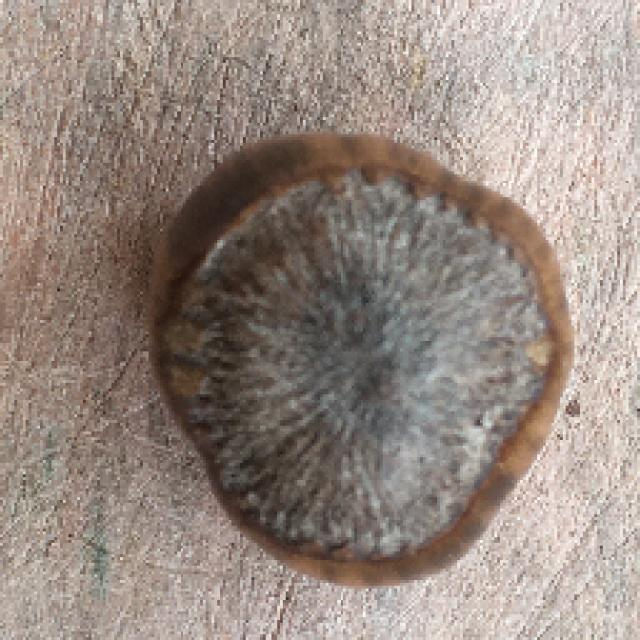DamagedHazelnut: (143, 128, 575, 595)
